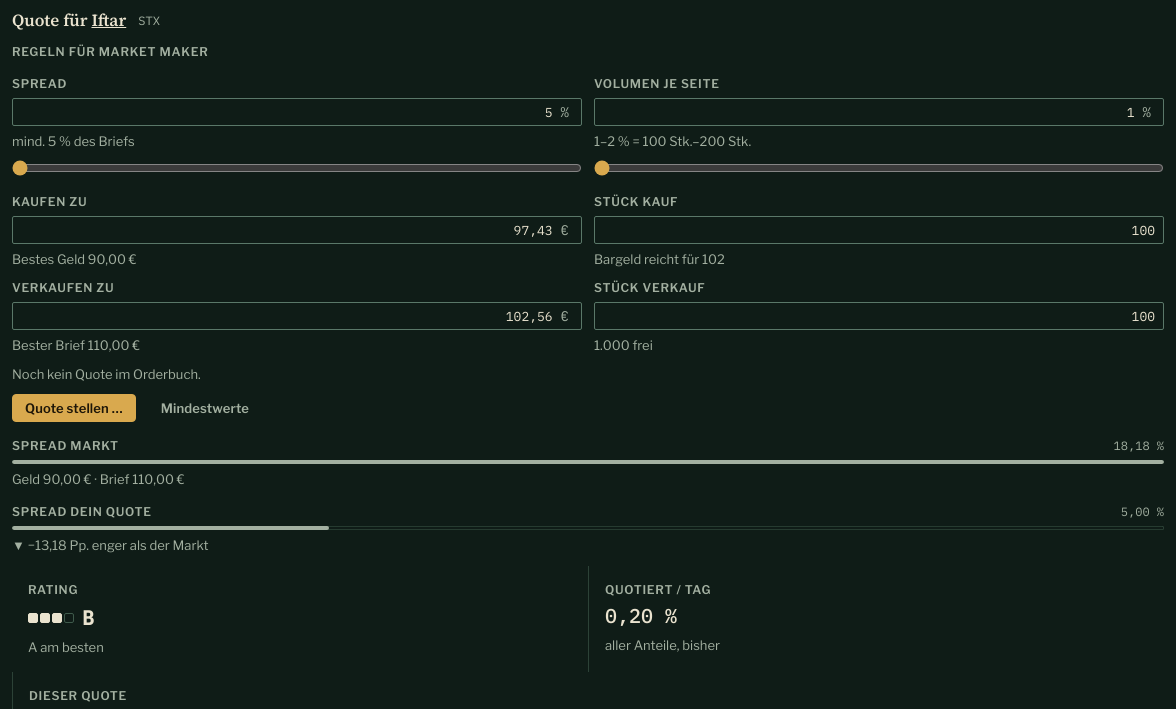
Test case: QuotePanel › sets prices from the spread and both sizes from the volume
The width and height of the screenshot is (1176, 709).
Replace the text in the field labelled "Spread" with "10" at {"x": 287, "y": 112}, box 13,99 -> 561,125
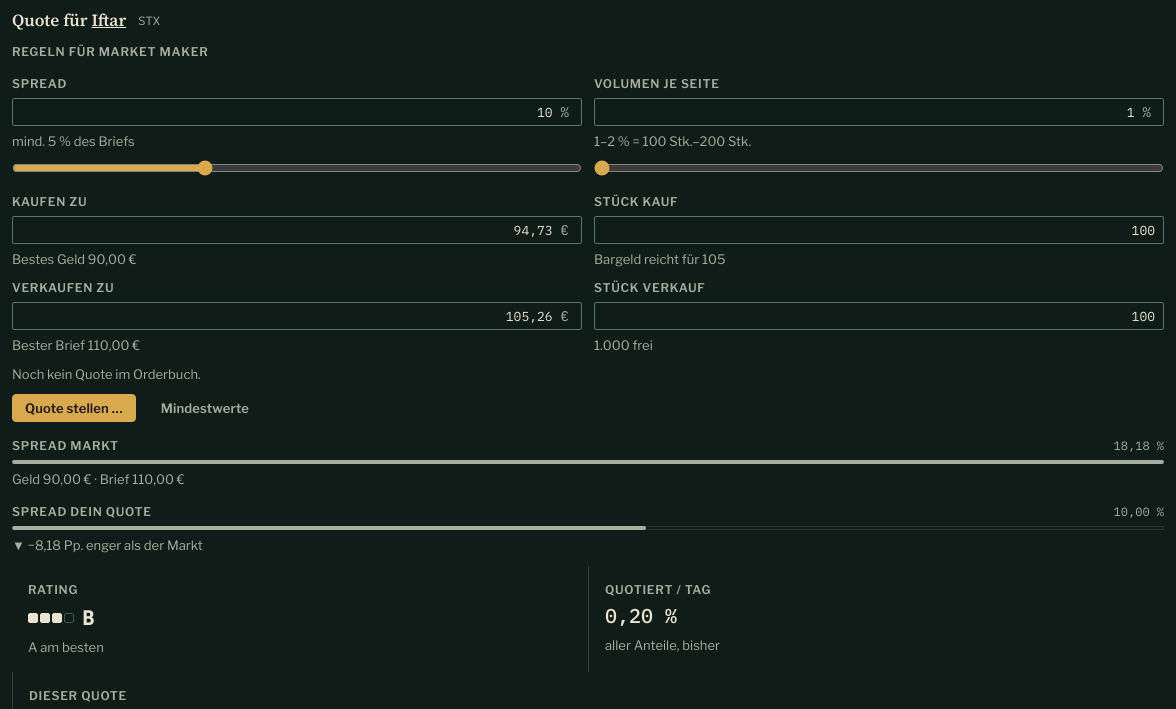
Now the field labelled "Kaufen zu" holds "94,73", box 13,217 -> 561,243
Now the field labelled "Verkaufen zu" holds "105,26", box 13,303 -> 561,329
Set the slider named "Volumen je Seite in Prozent der Anteile" to "1.5" at {"x": 879, "y": 168}, box 594,154 -> 1164,182
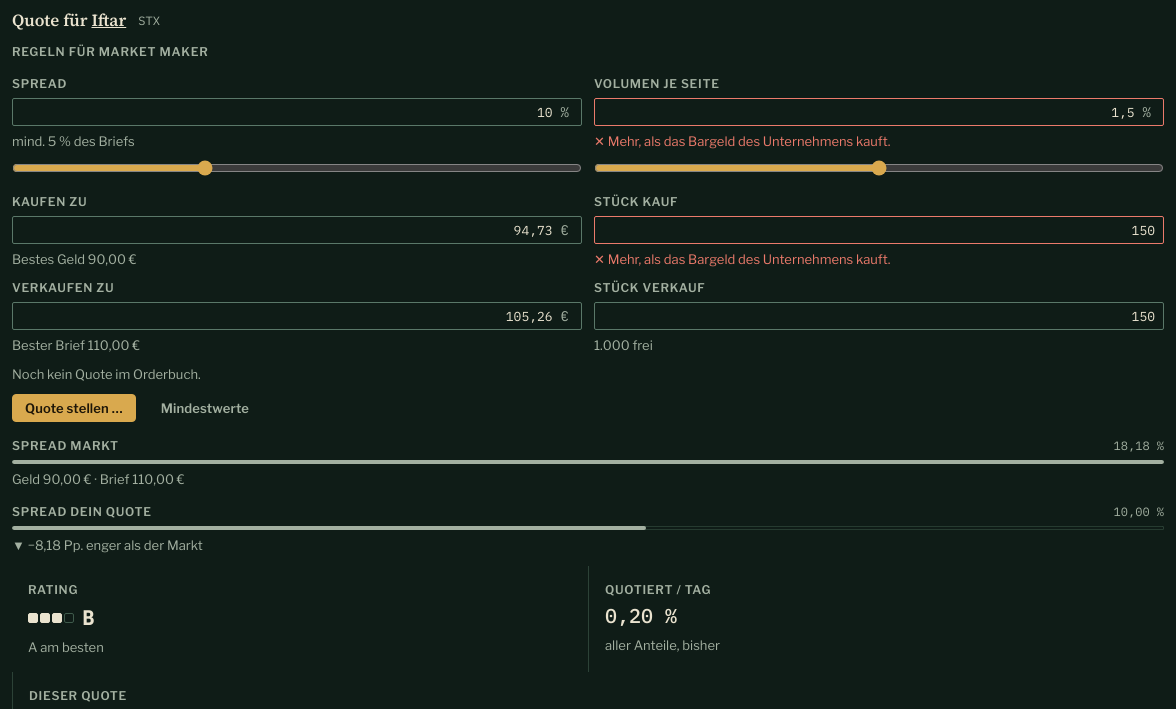
Now the field labelled "Stück Kauf" holds "150", box 595,217 -> 1163,243
Now the field labelled "Stück Verkauf" holds "150", box 595,303 -> 1163,329
# editing a price moves the spread control along
Replace the text in the field labelled "Verkaufen zu" with "100" at {"x": 287, "y": 316}, box 13,303 -> 561,329
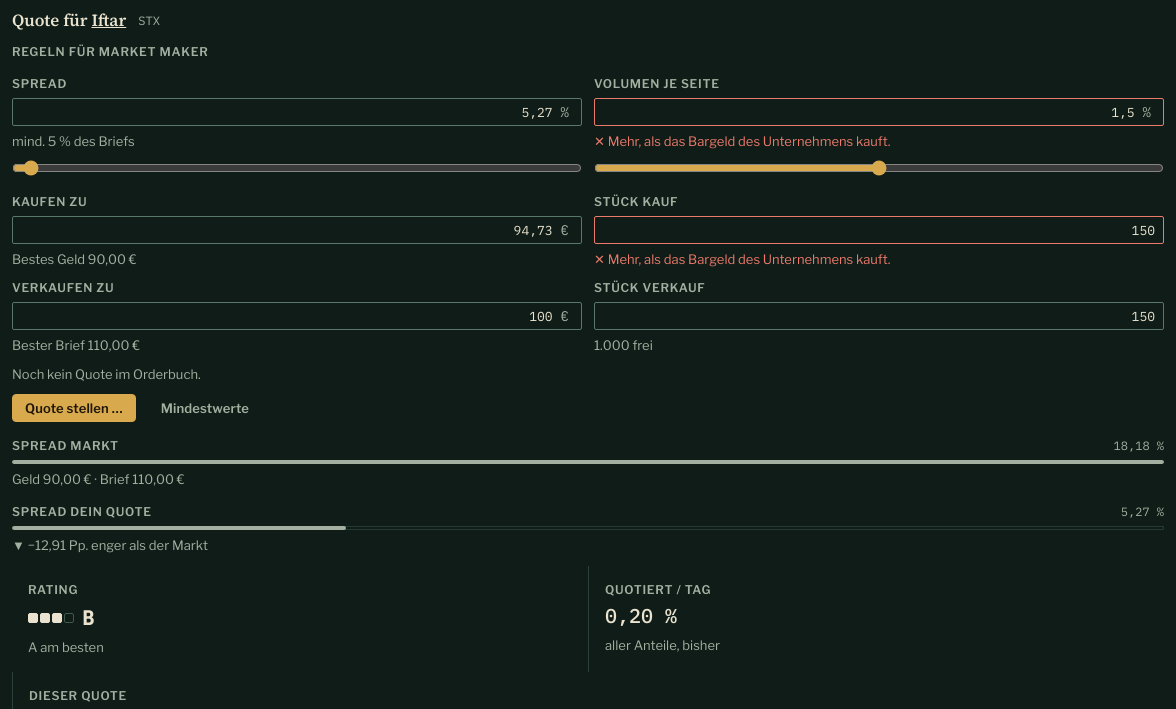
Now the field labelled "Spread" holds "5,27", box 13,99 -> 561,125
